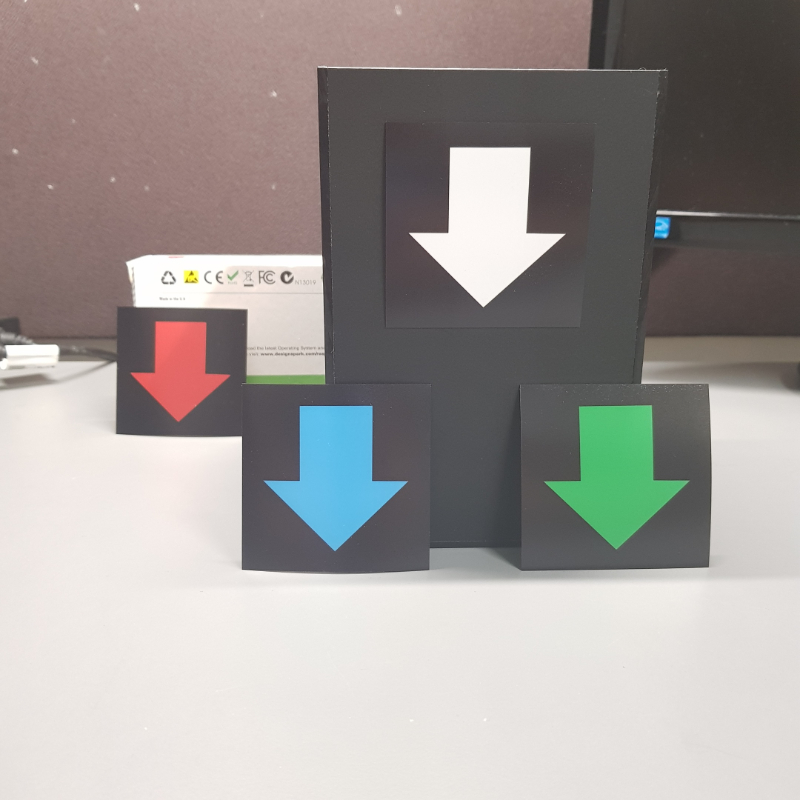DA-2: (122, 311, 240, 431)
LA-4: (250, 389, 423, 563)
RA-3: (528, 389, 701, 561)
UA-1: (392, 127, 578, 319)
